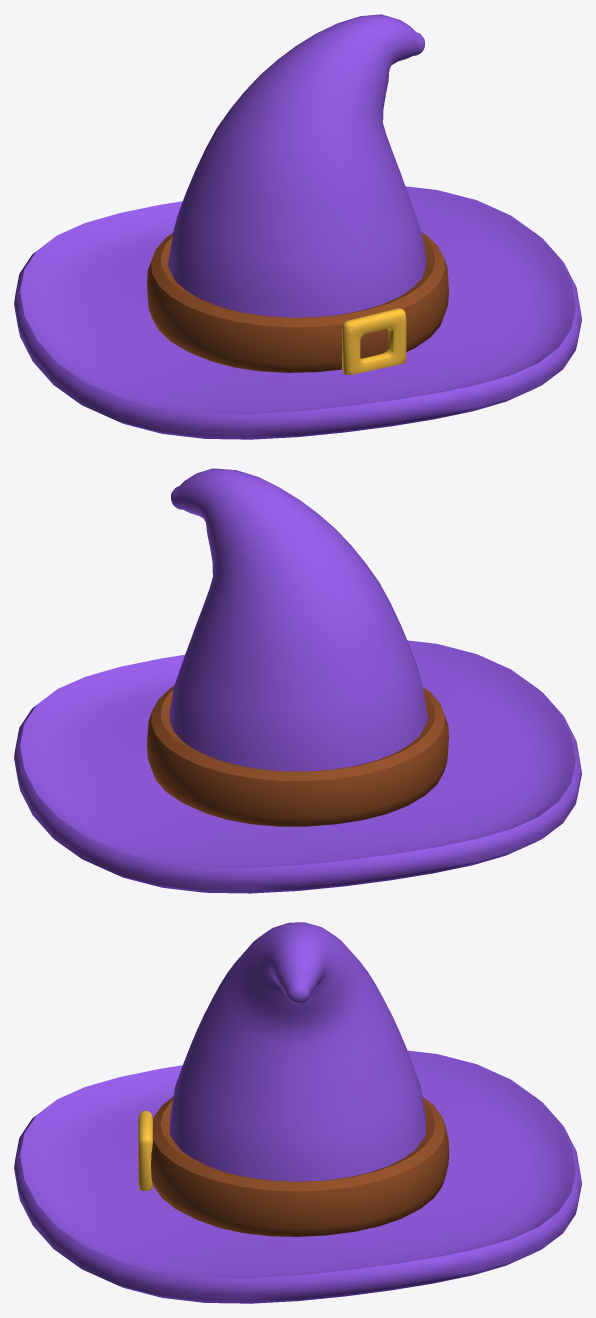
File: WitchHat.fbx
The picture shows the model from 3 angles, top to bottom: view 1: azimuth 30°, elevation 25°; view 2: azimuth 150°, elevation 25°; view 3: azimuth 270°, elevation 25°; orthographic projection.
Parts seen in each view (by area): view 1: WitchHat; view 2: WitchHat; view 3: WitchHat.
Part boxes in pixels (left/top/right/bottom): WitchHat: left=14, top=14, right=581, bottom=439; WitchHat: left=14, top=468, right=581, bottom=893; WitchHat: left=14, top=922, right=581, bottom=1303.
Bounding box in the file's own units: 274 × 162 × 274.
Materials: 1 (1 with a texture image).
